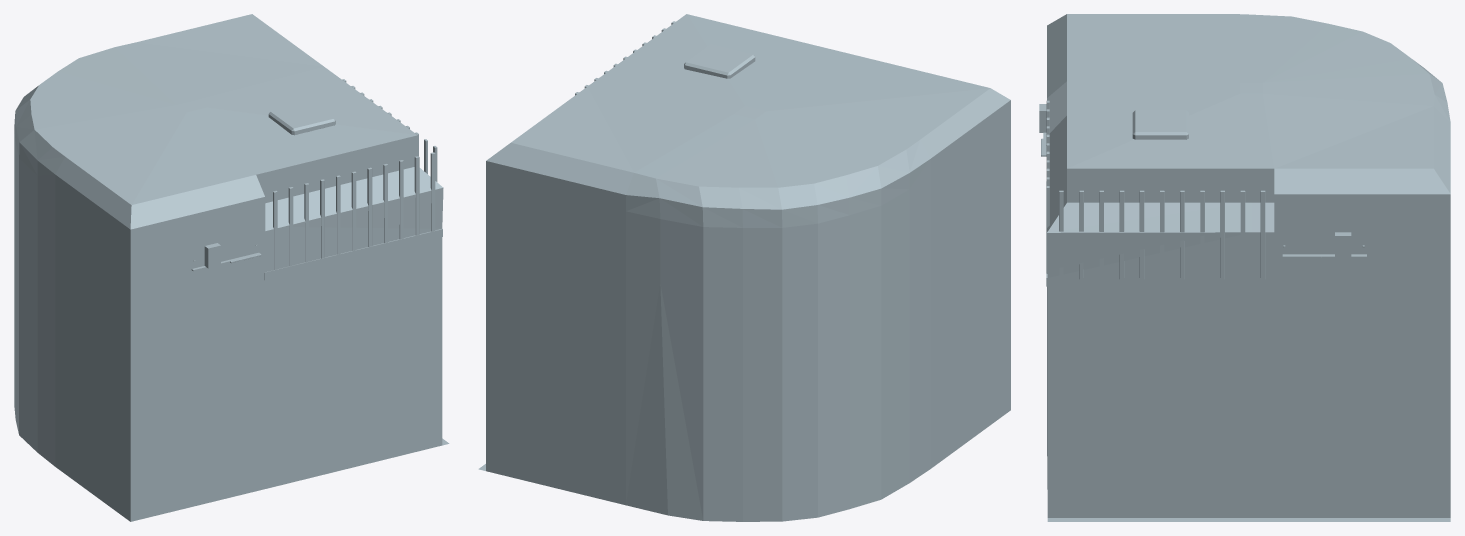
File: RoomLayoutAsset03.fbx
3 views of the same model, side by side, from view 1: azimuth 30°, elevation 25°; view 2: azimuth 150°, elevation 25°; view 3: azimuth 270°, elevation 25° (orthographic). The views are drawn at different scales.
Visible parts, largest first — view 1: WALLS, Wall_Struts, base, pCube125; view 2: WALLS, pCube125; view 3: WALLS, Wall_Struts, base, pCube125.
Boxes of the visible parts, <box> form: WALLS: <box>14,14,449,521</box>; Wall_Struts: <box>273,79,437,269</box>; base: <box>264,228,442,280</box>; pCube125: <box>268,102,335,135</box>; WALLS: <box>478,14,1010,521</box>; pCube125: <box>684,44,755,78</box>; WALLS: <box>1047,14,1450,521</box>; Wall_Struts: <box>1046,100,1265,279</box>; base: <box>1046,181,1274,286</box>; pCube125: <box>1132,110,1188,139</box>.
Size of the model in its own units: 43.03 by 40.68 by 43.35.
